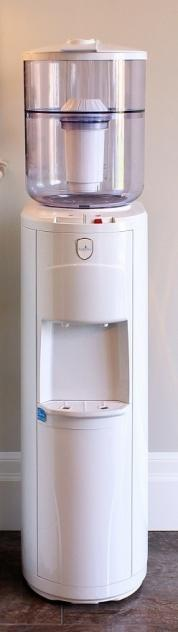Dispenser: (18, 40, 148, 604)
